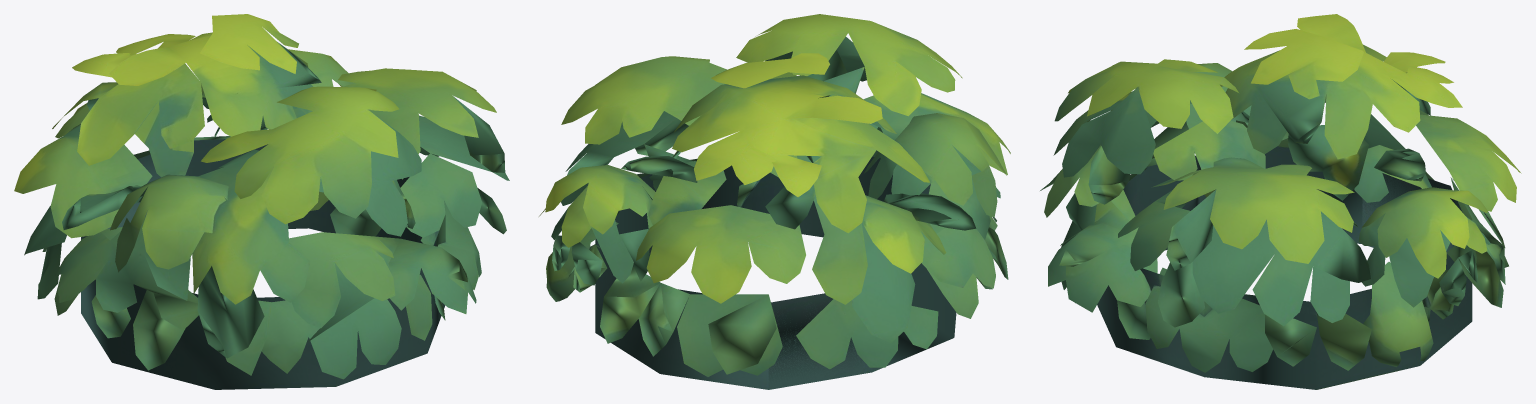
3 renders of one model, left to right at view 1: azimuth 30°, elevation 25°; view 2: azimuth 150°, elevation 25°; view 3: azimuth 270°, elevation 25°, orthographic. The views are drawn at different scales.
Visible parts, largest first — view 1: tripo_node_4d45b452-25ca-4335-9fbd-1429a3b5de92; view 2: tripo_node_4d45b452-25ca-4335-9fbd-1429a3b5de92; view 3: tripo_node_4d45b452-25ca-4335-9fbd-1429a3b5de92.
Part boxes in pixels (left/top/right/bottom): tripo_node_4d45b452-25ca-4335-9fbd-1429a3b5de92: left=14, top=14, right=509, bottom=389; tripo_node_4d45b452-25ca-4335-9fbd-1429a3b5de92: left=539, top=14, right=1010, bottom=389; tripo_node_4d45b452-25ca-4335-9fbd-1429a3b5de92: left=1040, top=14, right=1521, bottom=389.
Size of the model in its own units: 0.998 by 0.5918 by 0.9941.
1 material, 1 textured.
